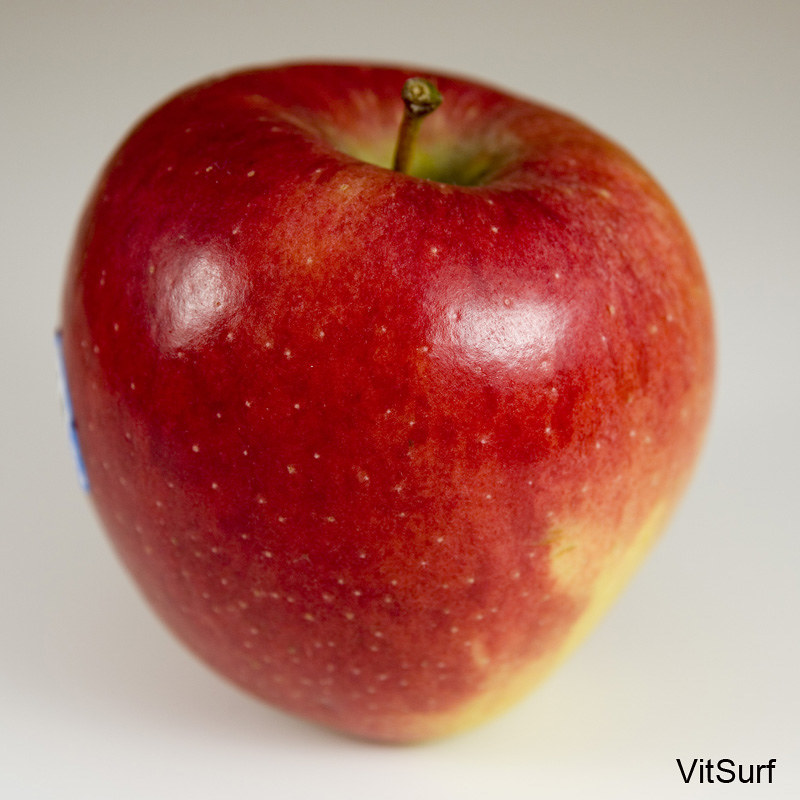apple: (46, 51, 727, 756)
